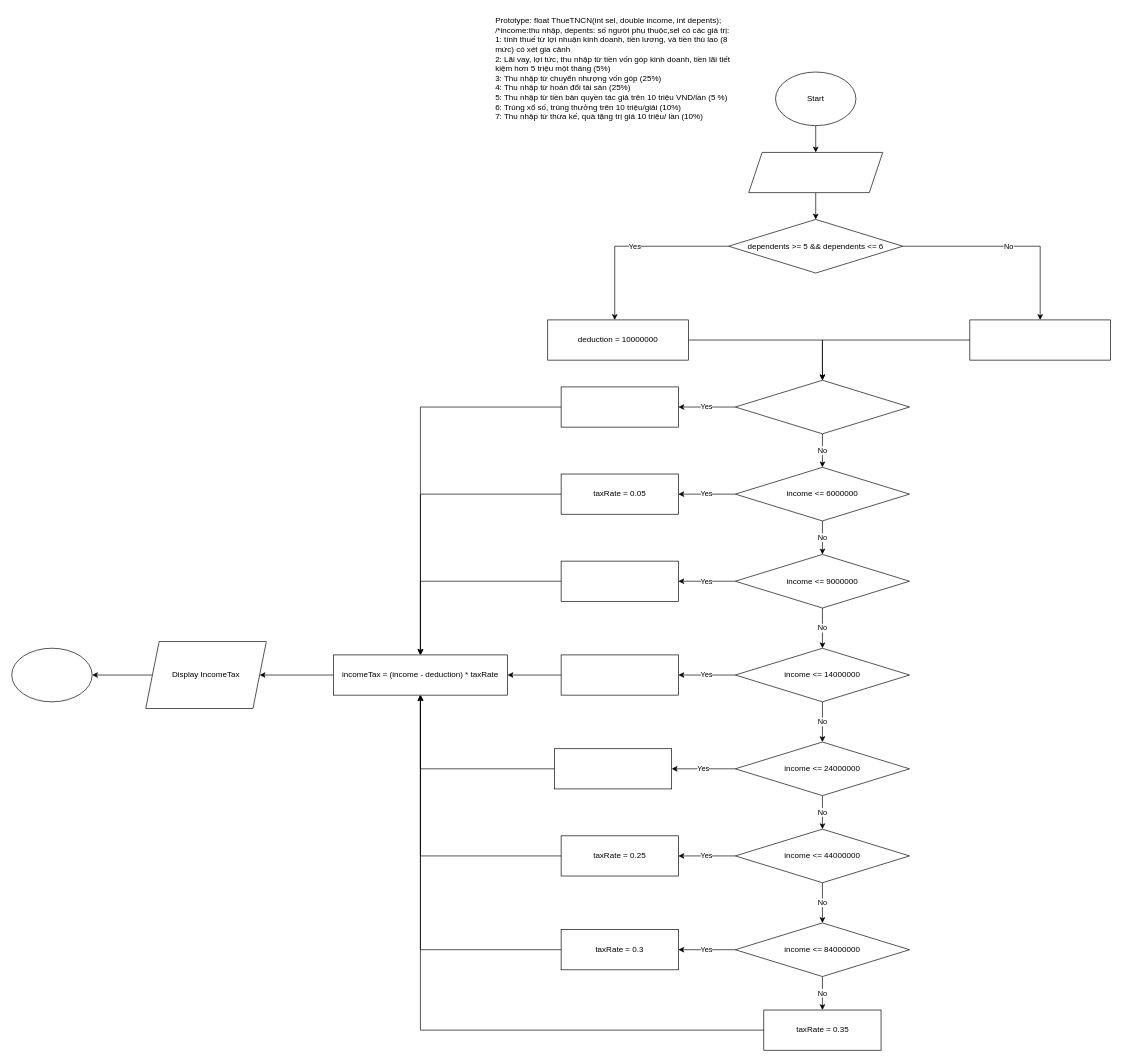
Image size: 1122x1062. Some labels were removed from this diagram. Each missing label, with the box of its shape:
deduction = dependents * 1600000: (969, 319, 1111, 360)
End: (11, 648, 92, 702)
income <= 4000000: (735, 380, 910, 434)
Input income, dependents: (748, 152, 883, 193)
taxRate = 0: (560, 386, 678, 427)
taxRate = 0.1: (560, 560, 678, 601)
taxRate = 0.15: (560, 654, 678, 695)
taxRate = 0.2: (554, 748, 672, 789)
